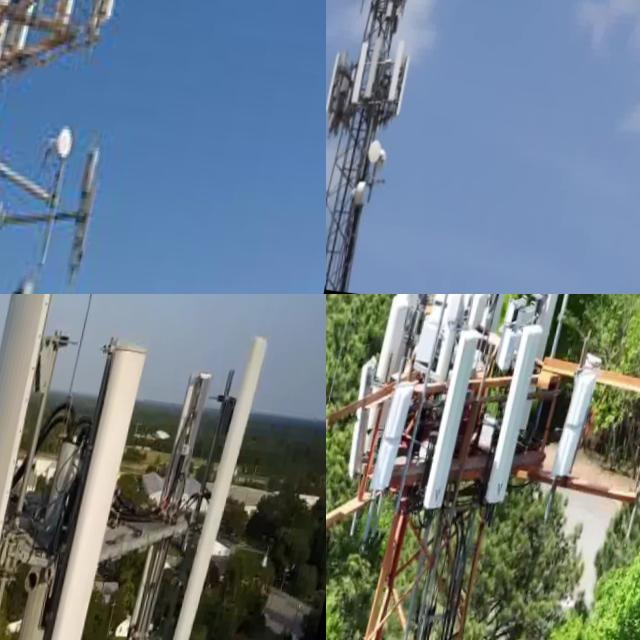GSM Antenna: (9, 333, 157, 640), (173, 331, 273, 640), (0, 294, 74, 640), (420, 317, 496, 526), (482, 313, 554, 513), (551, 360, 612, 488), (340, 356, 395, 479), (373, 377, 425, 498), (379, 294, 434, 377), (368, 31, 395, 109), (329, 47, 355, 118), (354, 39, 381, 107), (394, 35, 418, 105), (401, 57, 424, 123)
Microwave Antenna: (121, 359, 220, 640), (66, 142, 123, 283), (49, 121, 99, 177), (360, 177, 383, 209), (374, 135, 392, 164), (386, 146, 401, 170)
